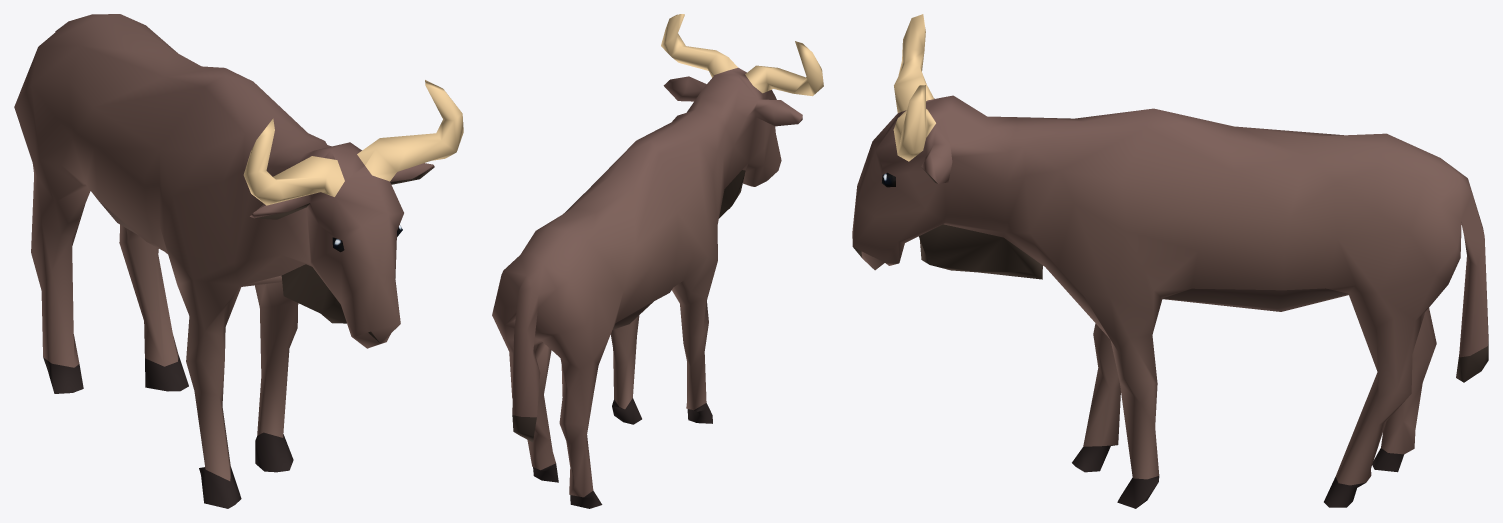
Rendered from Wildebeast.glb.
3 renders of one model, left to right at view 1: azimuth 30°, elevation 25°; view 2: azimuth 150°, elevation 25°; view 3: azimuth 270°, elevation 25°, orthographic. The views are drawn at different scales.
Parts seen in each view (by area): view 1: Wildebeast; view 2: Wildebeast; view 3: Wildebeast.
Boxes of the visible parts, bbox=[...] form: Wildebeast: bbox=[14, 14, 463, 508]; Wildebeast: bbox=[492, 14, 823, 508]; Wildebeast: bbox=[852, 14, 1488, 508].
Size of what is drawn, in the model's own units: 1.04 by 2.07 by 2.75.
Materials: 2 (2 with a texture image).
